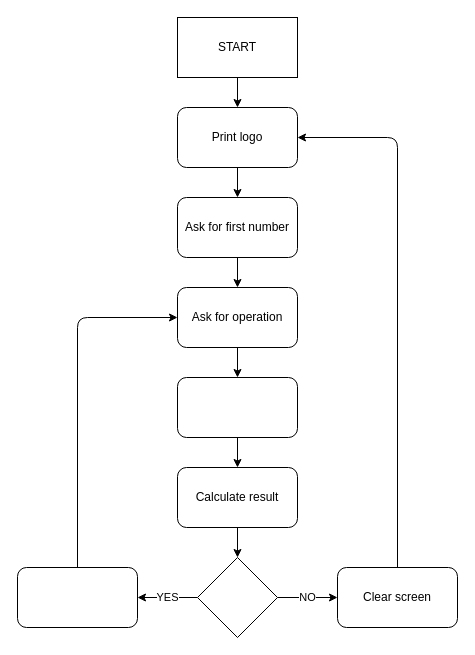
This 475x655 diagram has some shape labels left out. The centre of each missing label's shape, as x and y in pixels:
"Ask for second number" belongs at [237,407].
"Continue with result?" belongs at [237,597].
"Store result in first number" belongs at [77,597].
